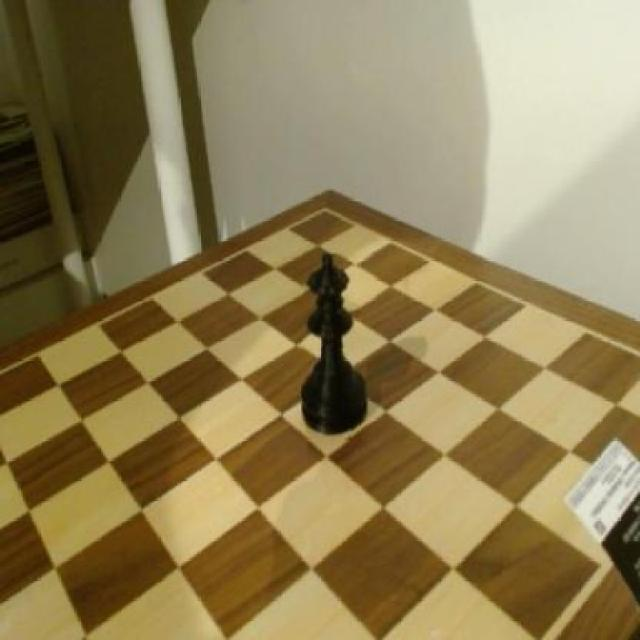black-pawn: (300, 254, 375, 441)
